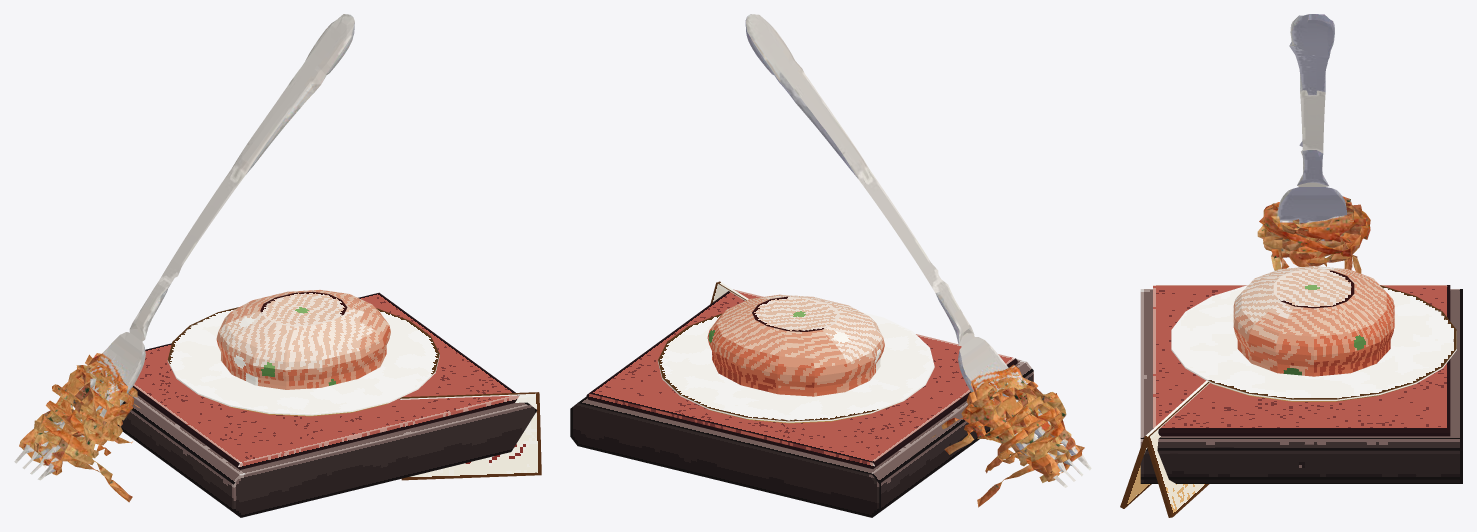
The model's file is fork.glb.
3 views of the same model, side by side, from view 1: azimuth 30°, elevation 25°; view 2: azimuth 150°, elevation 25°; view 3: azimuth 270°, elevation 25° (orthographic). The views are drawn at different scales.
Visible parts, largest first — view 1: base, felt, model_pasta, pasta, plate, card1; view 2: base, model_pasta, felt, pasta, plate; view 3: base, felt, pasta, plate, model_pasta, card0, card1.
Boxes of the visible parts, x1,y1,x2,y2 form: base: (117, 393, 537, 517); felt: (133, 292, 519, 469); model_pasta: (14, 14, 354, 502); pasta: (216, 289, 390, 389); plate: (167, 307, 439, 416); card1: (399, 393, 541, 480); base: (570, 359, 1033, 517); model_pasta: (745, 14, 1091, 507); felt: (586, 289, 1017, 468); pasta: (707, 294, 884, 396); plate: (658, 312, 934, 423); base: (1140, 289, 1462, 483); felt: (1153, 285, 1450, 436); pasta: (1233, 266, 1394, 376); plate: (1171, 285, 1456, 401); model_pasta: (1257, 14, 1370, 273); card0: (1144, 382, 1209, 517); card1: (1120, 381, 1207, 508).
Bounding box in the file's own units: 43.8 × 40.64 × 27.65.
Materials: 2 (2 with a texture image).
